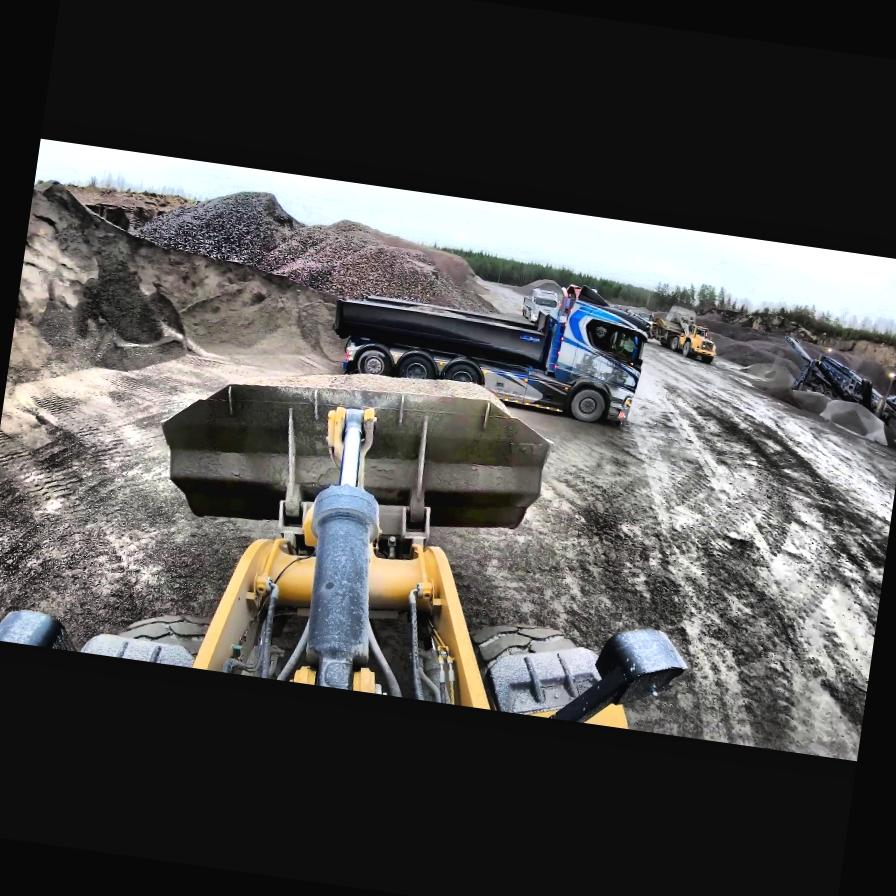anchor: (316, 399, 378, 491)
pile of gravel: (6, 156, 510, 440), (120, 172, 506, 316), (680, 299, 896, 422)
